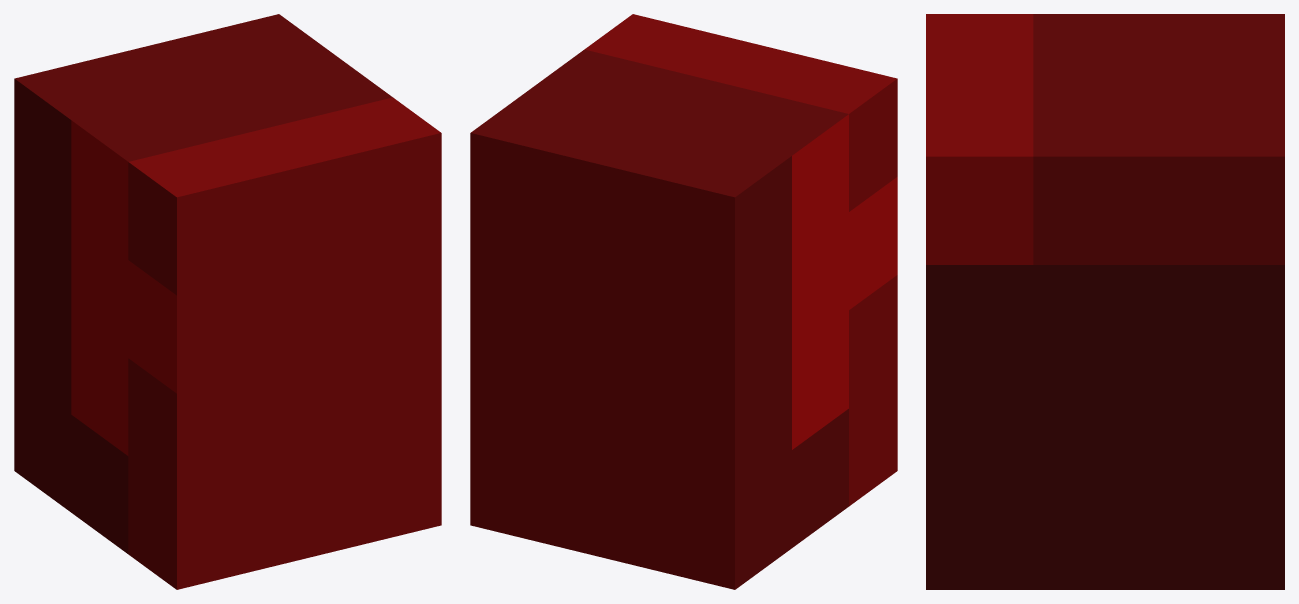
File: R_Arm_HuntersArmor.glb
3 views of the same model, side by side, from view 1: azimuth 30°, elevation 25°; view 2: azimuth 150°, elevation 25°; view 3: azimuth 270°, elevation 25° (orthographic). The views are drawn at different scales.
Parts seen in each view (by area): view 1: R_Arm_HuntersArmor.001; view 2: R_Arm_HuntersArmor.001; view 3: R_Arm_HuntersArmor.001.
Boxes of the visible parts, box(x1,y1,x2,y2) form: R_Arm_HuntersArmor.001: box(14, 14, 441, 589); R_Arm_HuntersArmor.001: box(470, 14, 897, 589); R_Arm_HuntersArmor.001: box(926, 14, 1284, 589).
Bounding box in the file's own units: 19.84 × 28.12 × 21.09.
Materials: 1 (1 with a texture image).
